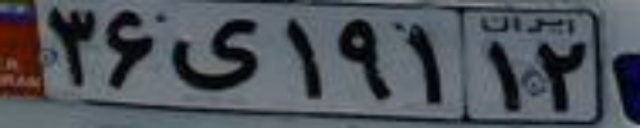1: (283, 18, 327, 101), (404, 23, 442, 103), (481, 41, 520, 110)
2: (534, 41, 584, 113)
3: (46, 6, 95, 87)
6: (103, 9, 155, 91)
9: (336, 17, 388, 99)
ye: (171, 16, 259, 92)
